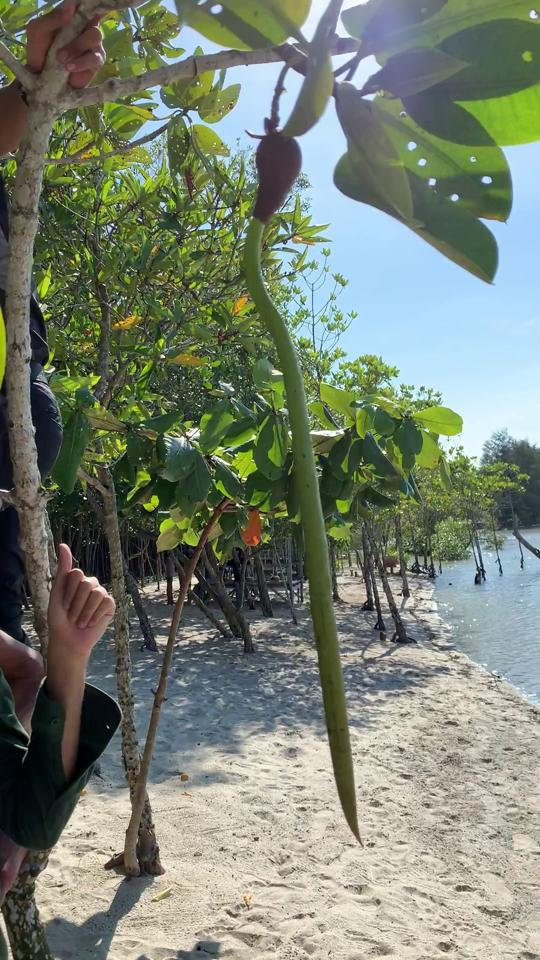mentah: (230, 107, 376, 858)
